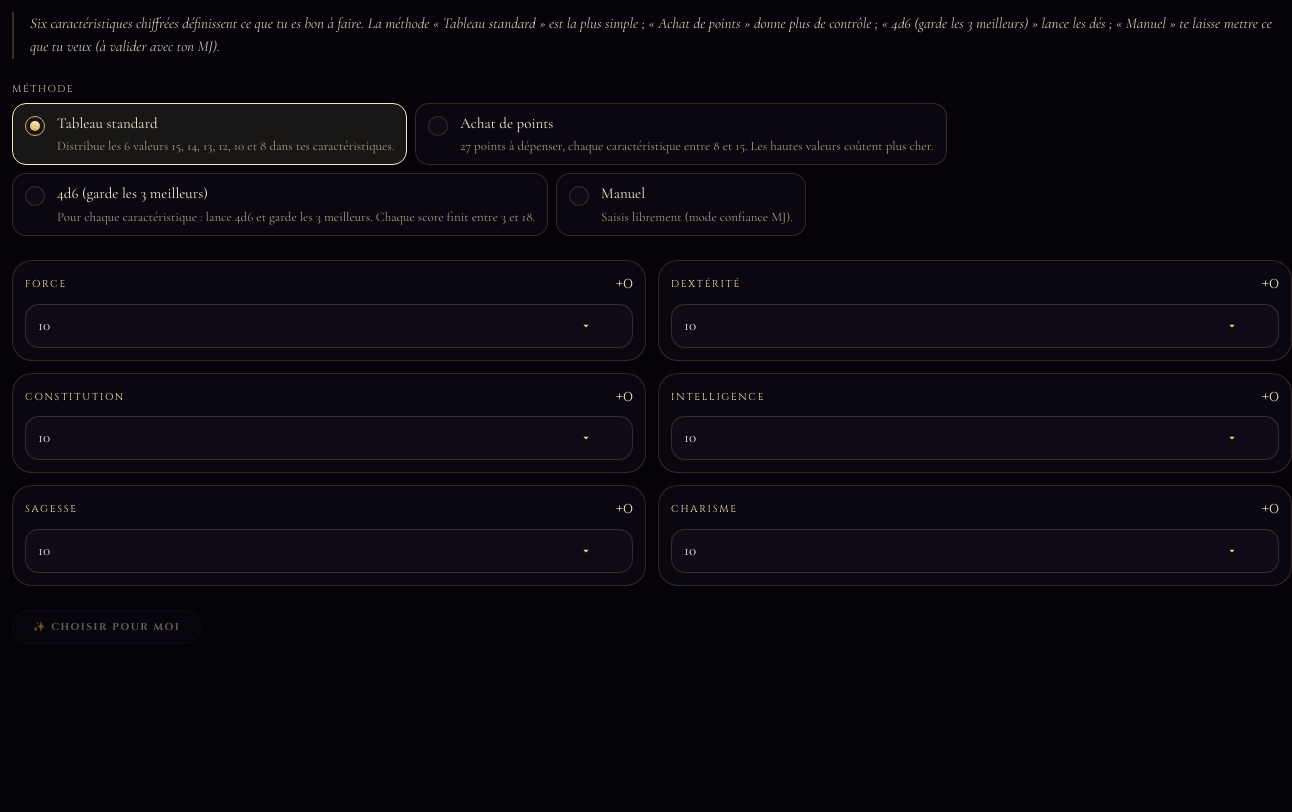
Test: AbilitiesStep — méthode rolled (JALON 2E) › selecting rolled affiche le sub-toggle de source app vs manuel
Click the radio button labelled "4d6 (garde les 3 meilleurs)" at [132, 193], box [12, 173, 548, 236]
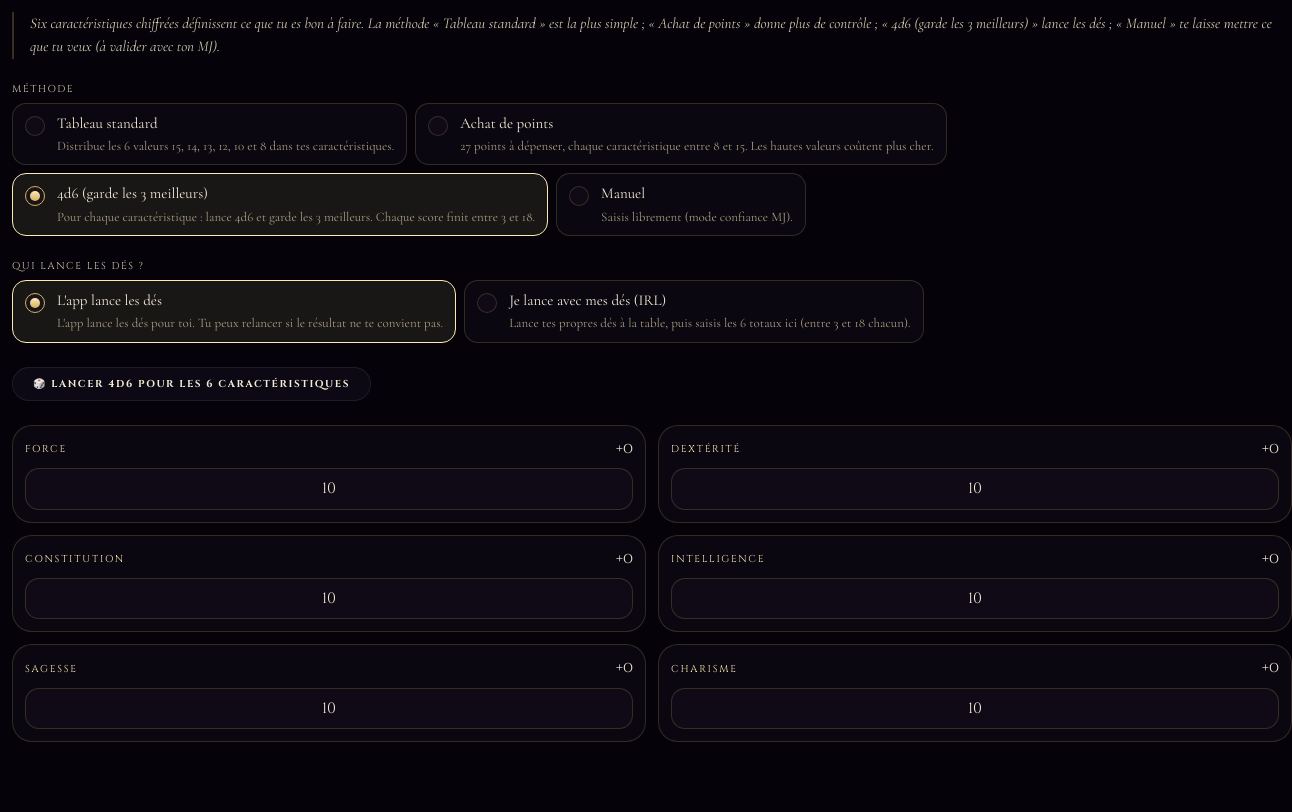
Expected: the radio button labelled "L'app lance les dés" is shown, [12, 280, 456, 343]
Expected: the radio button labelled "Je lance avec mes dés" is shown, [464, 280, 924, 343]
